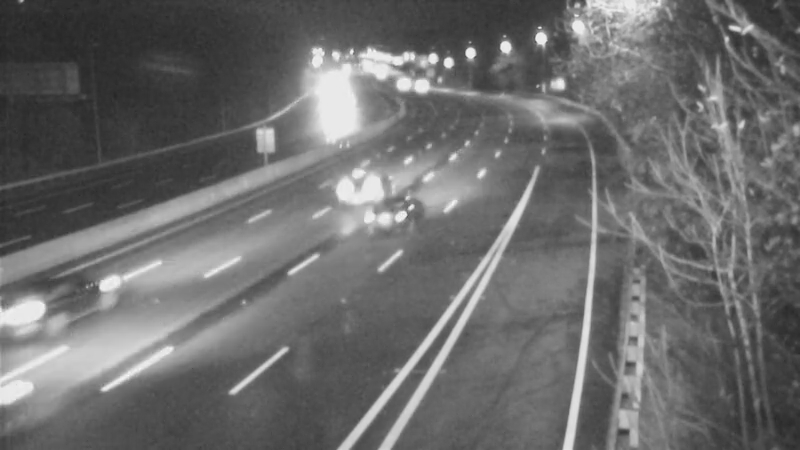vehicle: (1, 252, 110, 362), (317, 144, 397, 224), (346, 180, 426, 260), (373, 54, 423, 104), (401, 59, 451, 109)
